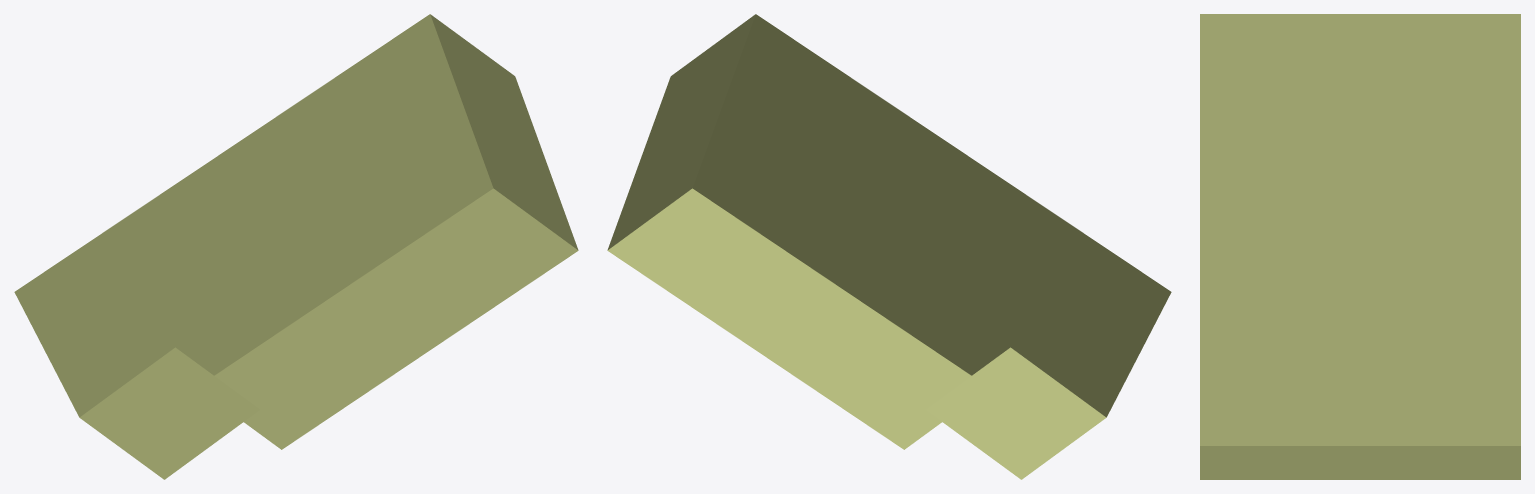
The picture shows the model from 3 angles, left to right: view 1: azimuth 30°, elevation 25°; view 2: azimuth 150°, elevation 25°; view 3: azimuth 270°, elevation 25°; orthographic projection. The views are drawn at different scales.
Parts seen in each view (by area): view 1: 0_1_3_2_2_2_1_0_2_0; view 2: 0_1_3_2_2_2_1_0_2_0; view 3: 0_1_3_2_2_2_1_0_2_0.
Boxes of the visible parts, left/top/right/bottom form: 0_1_3_2_2_2_1_0_2_0: left=14, top=14, right=578, bottom=479; 0_1_3_2_2_2_1_0_2_0: left=607, top=14, right=1171, bottom=479; 0_1_3_2_2_2_1_0_2_0: left=1200, top=14, right=1520, bottom=479.
Size of the model in its own units: 19.5 by 12.37 by 6.
